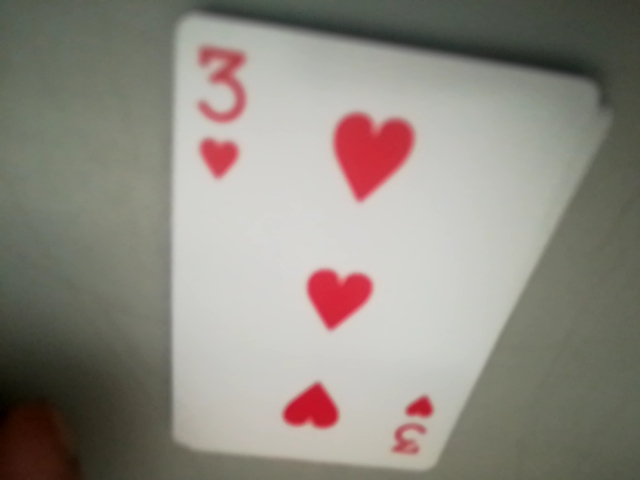hx 3: (175, 29, 256, 183)
